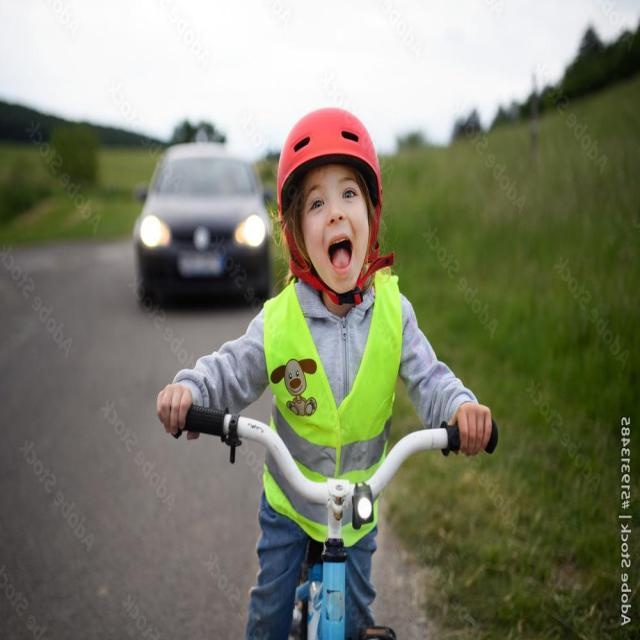Con_Chaleco: (265, 270, 398, 521)
